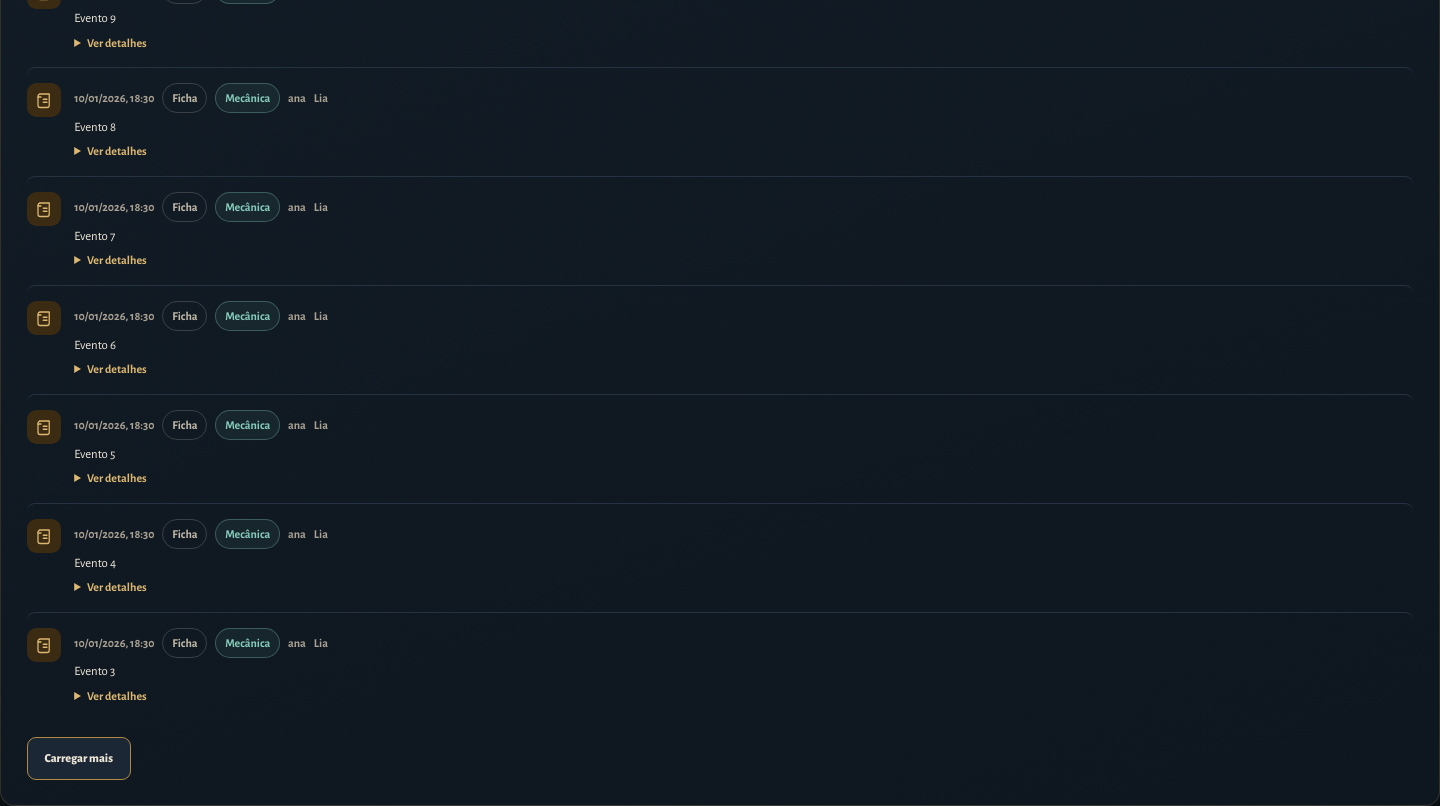
Scenario: AuditLog — 7.4/7.5/7.6 registro de auditoria › Carregar mais busca a próxima página com antes_de igual ao cursor devolvido
The width and height of the screenshot is (1440, 806).
(page scrolled)
Expected: the text "Evento 1" is not shown
Click the button "Carregar mais".
click(79, 758)  # box [27,737,131,780]
(page scrolled)
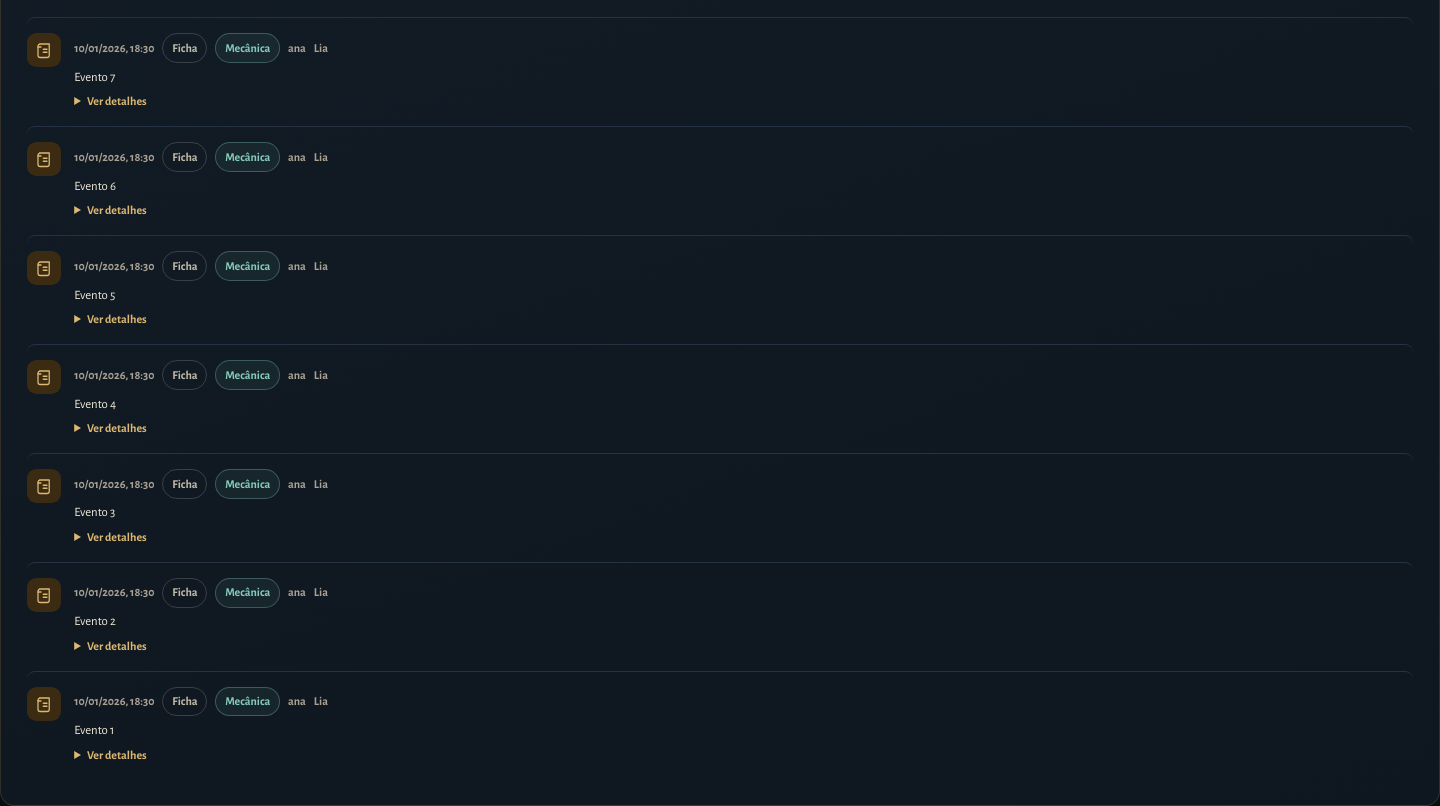
Expected: the text "Evento 1" is shown, [74,724,114,737]
Expected: the button "Carregar mais" is gone
